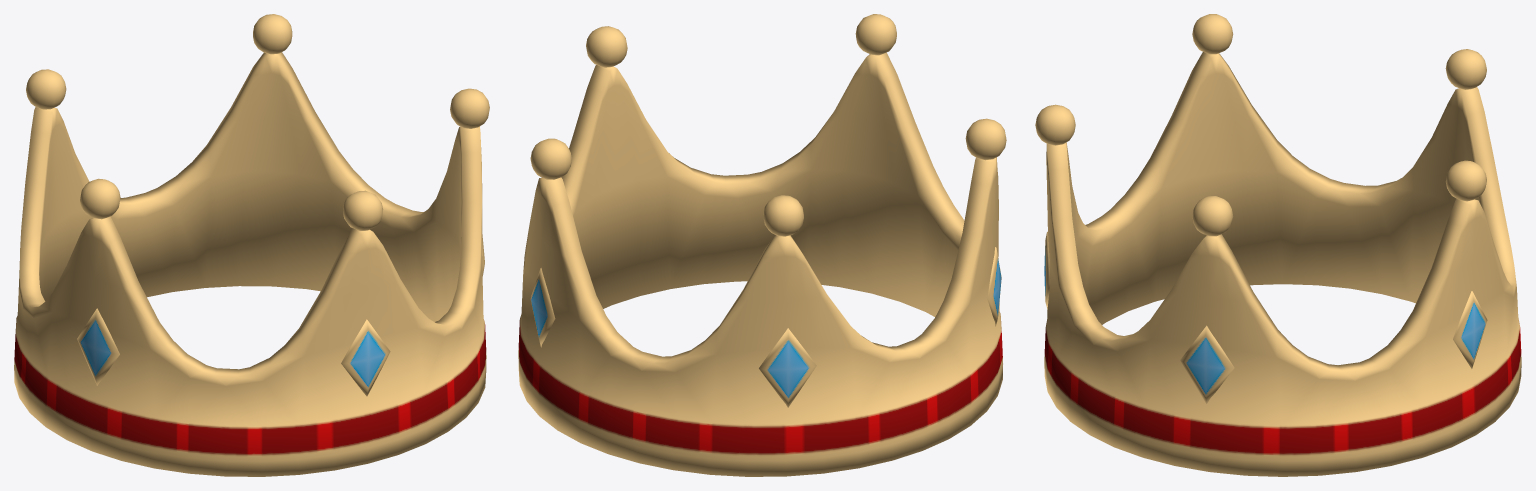
Rendered from Crown Gold.fbx.
3 views of the same model, side by side, from view 1: azimuth 30°, elevation 25°; view 2: azimuth 150°, elevation 25°; view 3: azimuth 270°, elevation 25° (orthographic). The views are drawn at different scales.
Visible parts, largest first — view 1: Crown Gold; view 2: Crown Gold; view 3: Crown Gold.
Part boxes in pixels (bbox=[...]): Crown Gold: bbox=[14, 14, 489, 476]; Crown Gold: bbox=[518, 14, 1006, 476]; Crown Gold: bbox=[1035, 14, 1521, 476].
Size of the model in its own units: 40.07 by 24.96 by 40.82.
